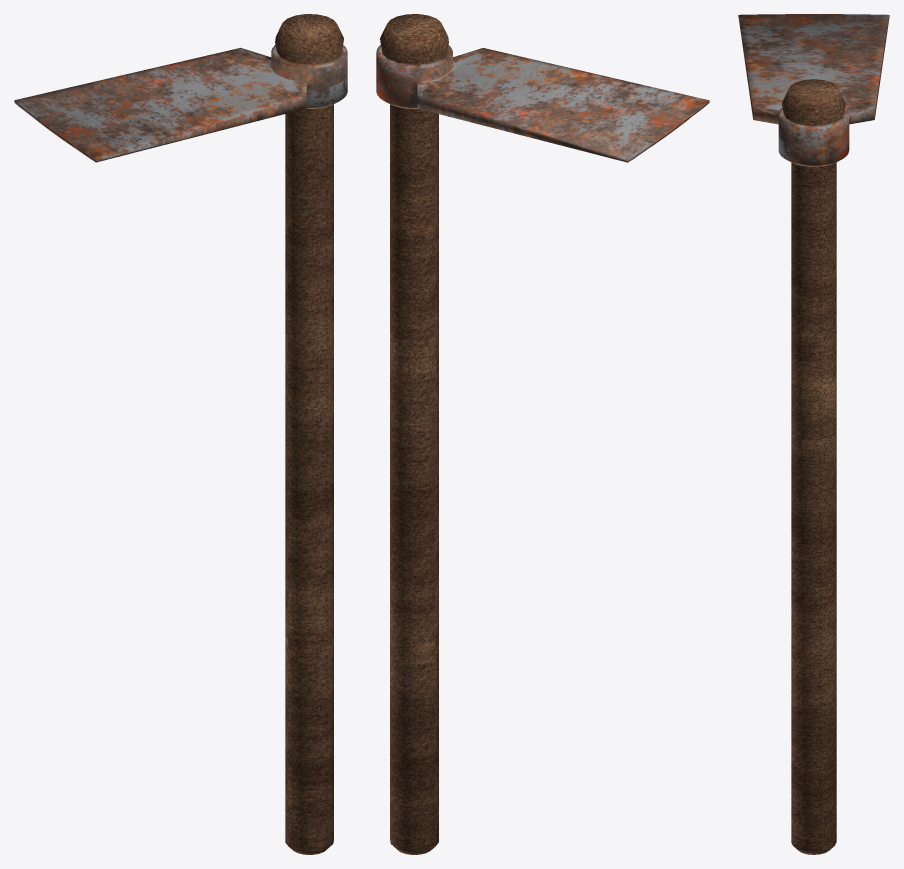
File: HoeTX.fbx
3 renders of one model, left to right at view 1: azimuth 30°, elevation 25°; view 2: azimuth 150°, elevation 25°; view 3: azimuth 270°, elevation 25°, orthographic. The views are drawn at different scales.
Parts seen in each view (by area): view 1: Hoe; view 2: Hoe; view 3: Hoe.
Part boxes in pixels (x1,y1,x2,y2): Hoe: (14, 14, 347, 854); Hoe: (376, 14, 709, 854); Hoe: (738, 14, 889, 854).
Size of the model in its own units: 1358 by 3686 by 666.
1 material, 1 textured.
